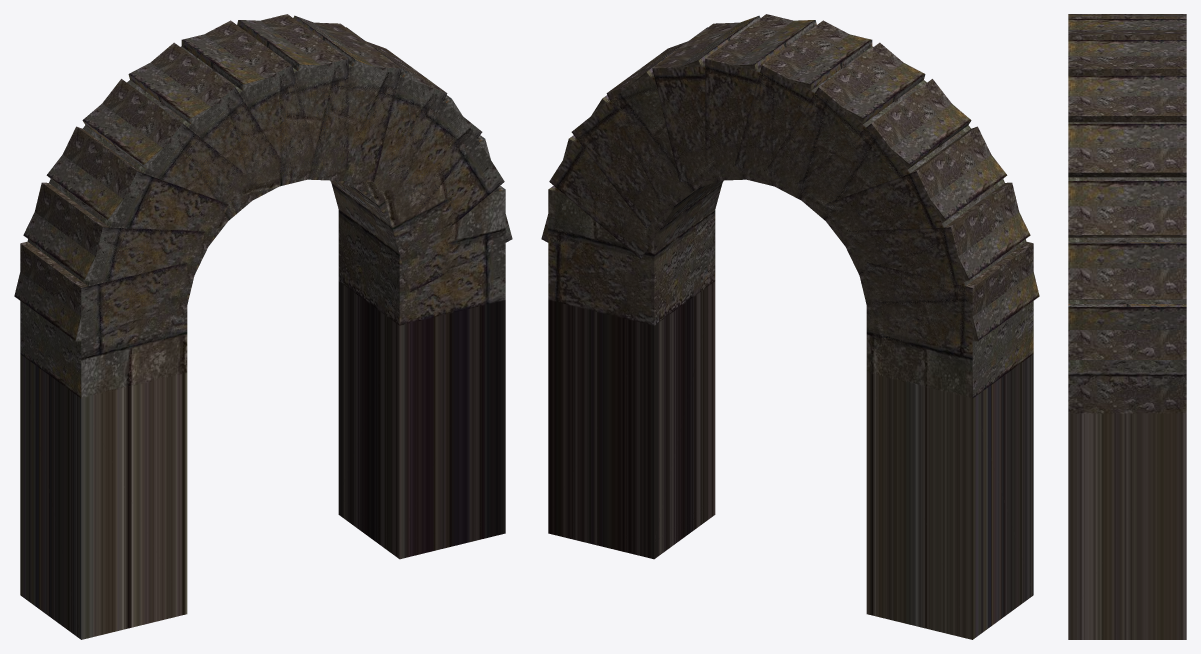
File: Outer Gate.fbx
The picture shows the model from 3 angles, left to right: view 1: azimuth 30°, elevation 25°; view 2: azimuth 150°, elevation 25°; view 3: azimuth 270°, elevation 25°; orthographic projection. The views are drawn at different scales.
Visible parts, largest first — view 1: Cube; view 2: Cube; view 3: Cube.
Boxes of the visible parts, x1=… form: Cube: x1=14, y1=14, x2=512, y2=639; Cube: x1=541, y1=14, x2=1039, y2=639; Cube: x1=1068, y1=14, x2=1186, y2=639.
Bounding box in the file's own units: 825 × 944 × 200.
1 material, 1 textured.
